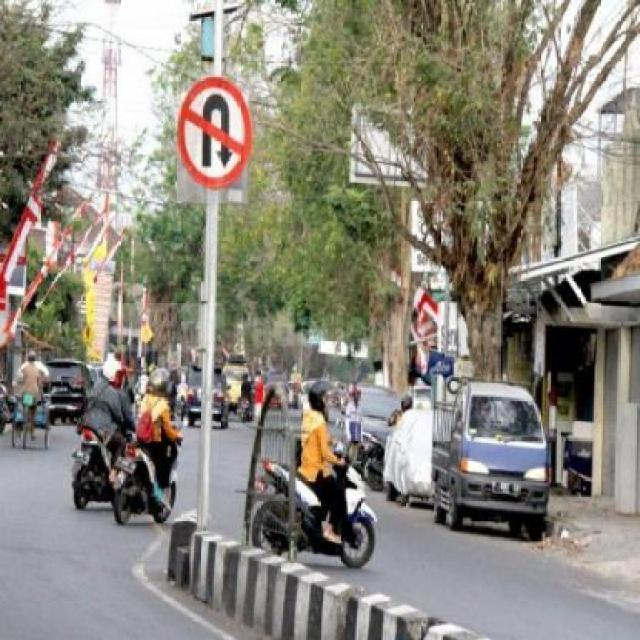u turn prohibited: (176, 75, 256, 196)
